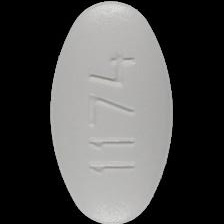10544-500: (0, 0, 224, 224)
